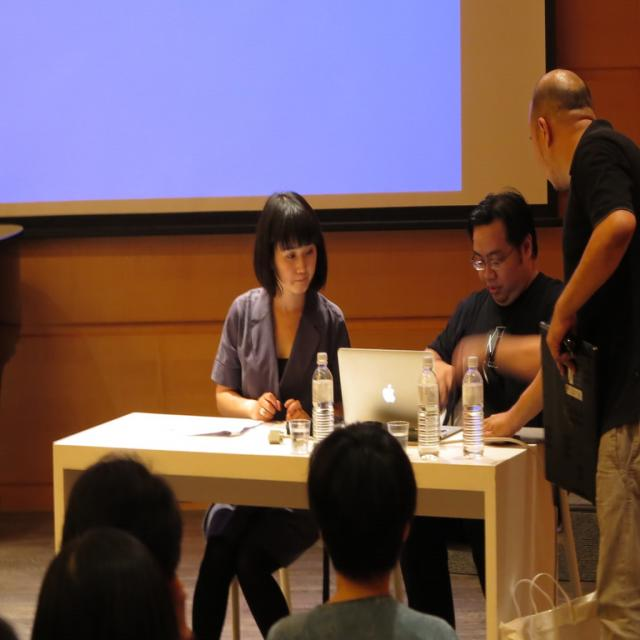desk: (53, 404, 408, 583)
laptop: (339, 348, 449, 425)
person: (532, 57, 640, 638), (265, 421, 459, 640), (426, 188, 566, 437), (210, 190, 352, 427), (32, 528, 179, 640)
